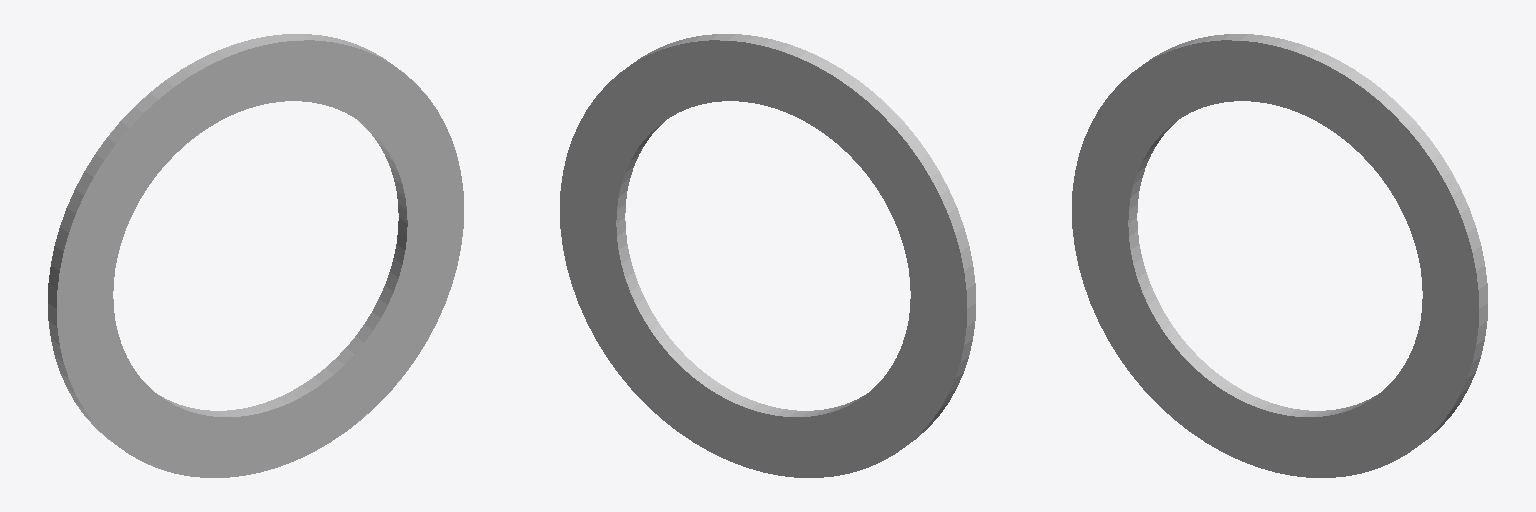
Rendered from InnerPixels_NegativeEndcap_passives_l21.obj.
The picture shows the model from 3 angles: view 1: azimuth 30°, elevation 25°; view 2: azimuth 150°, elevation 25°; view 3: azimuth 330°, elevation 25°; orthographic projection.
Bounding box in the file's own units: 159 × 159 × 6.08.